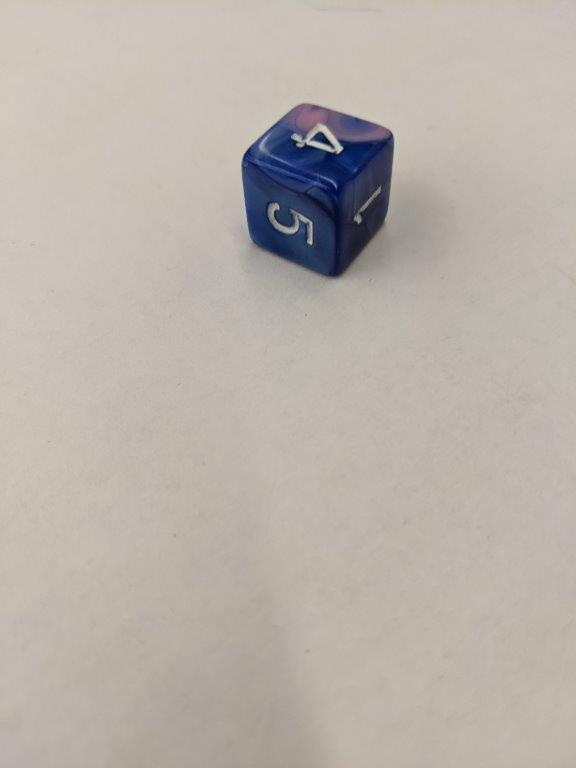d6-4: (240, 102, 397, 277)
